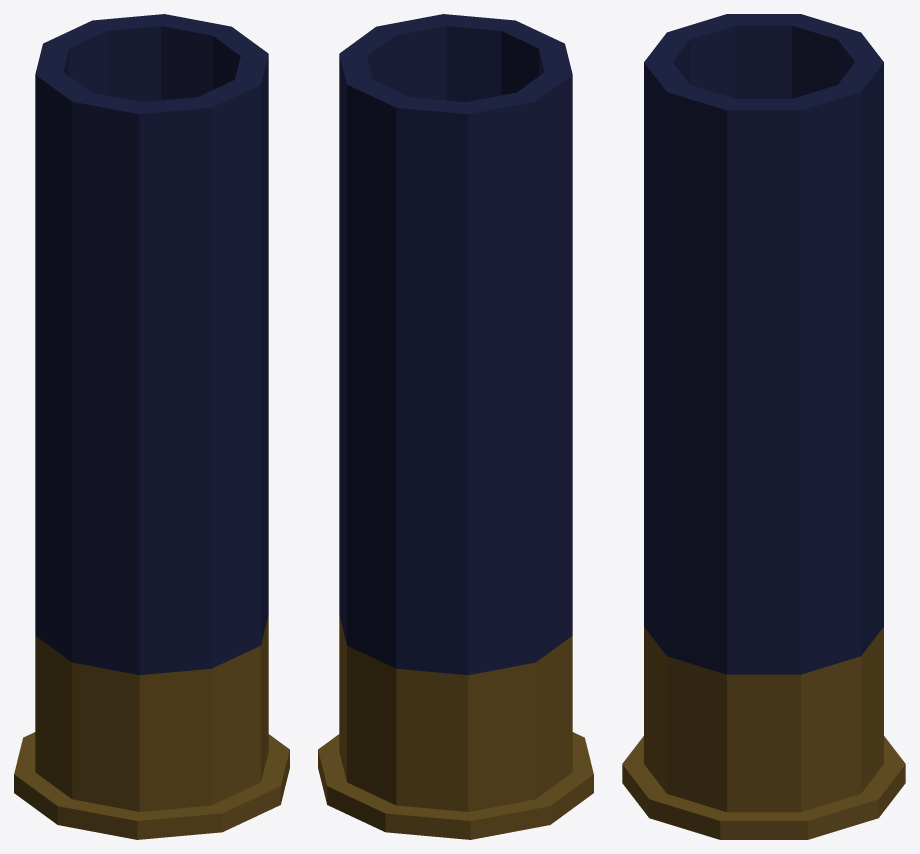
The model's file is Shotgun Empty Slug.fbx.
3 views of the same model, side by side, from view 1: azimuth 30°, elevation 25°; view 2: azimuth 150°, elevation 25°; view 3: azimuth 270°, elevation 25° (orthographic).
Parts seen in each view (by area): view 1: Shotgun Empty Slug; view 2: Shotgun Empty Slug; view 3: Shotgun Empty Slug.
Part boxes in pixels (bbox=[...]): Shotgun Empty Slug: bbox=[14, 14, 289, 839]; Shotgun Empty Slug: bbox=[318, 14, 593, 839]; Shotgun Empty Slug: bbox=[622, 14, 905, 839].
Bounding box in the file's own units: 2.84 × 8.36 × 2.98.
